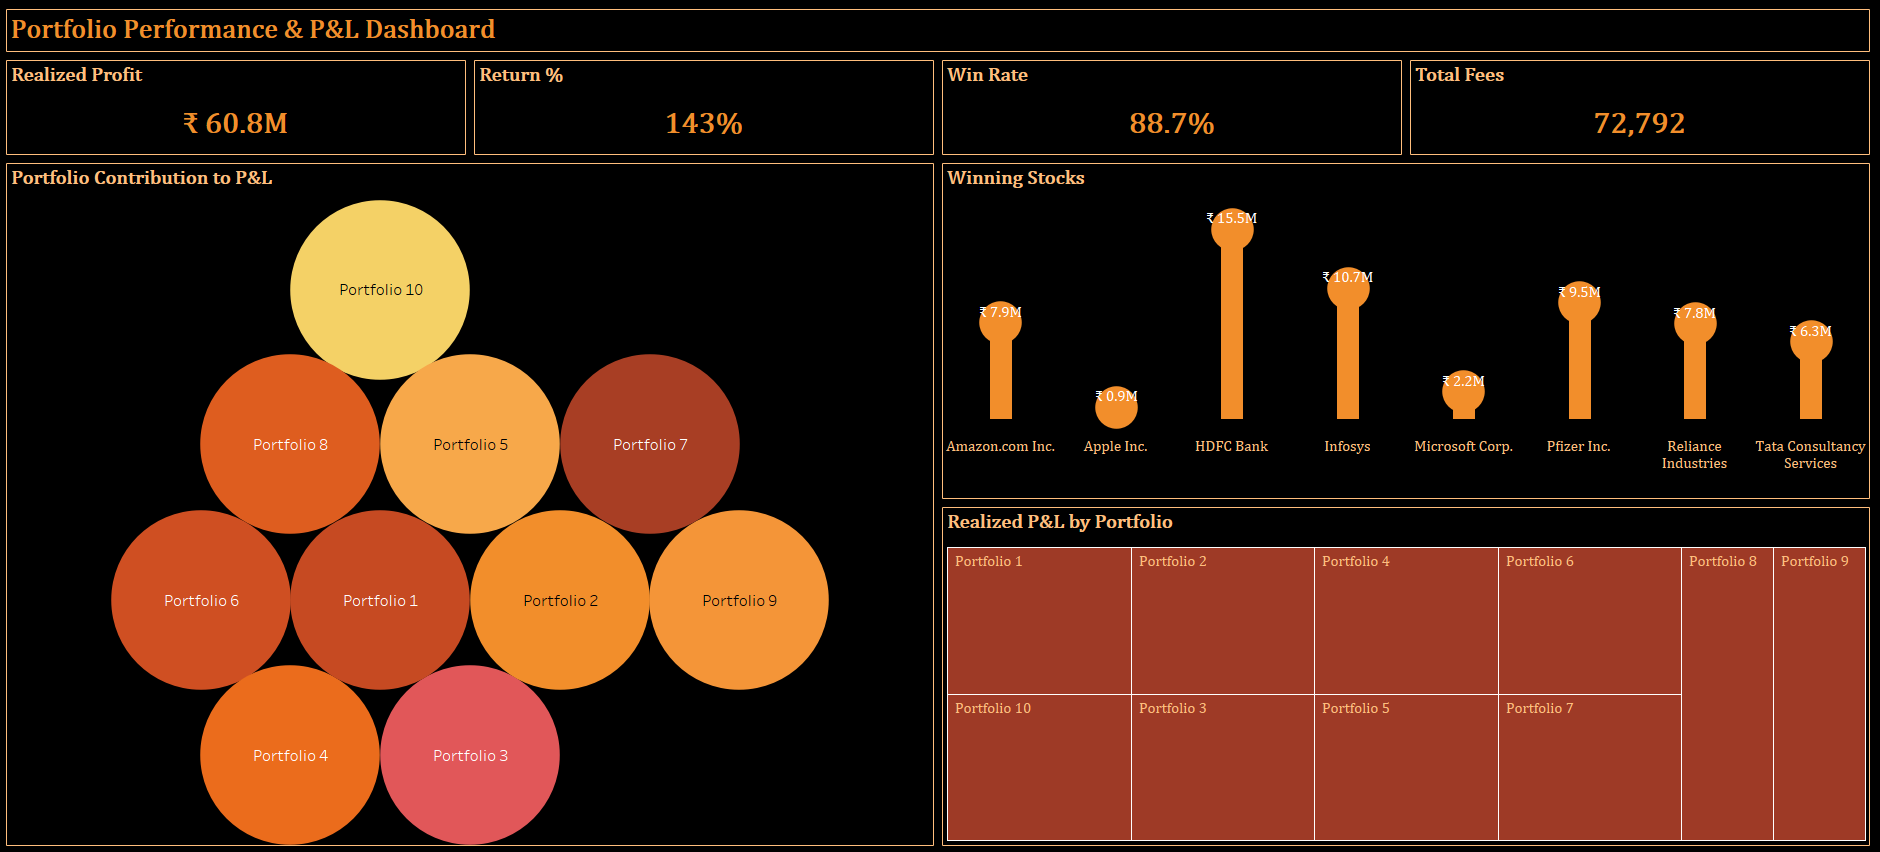

Layout of this report page (visuals, bound fields, positions):
{"tool":"tableau","page":{"name":"Dashboard 3","canvas":[1000,1000],"units":"permille","ordinal":2},"visuals":[{"type":"text","box":[4.2,9.3,991.5,59.2]},{"type":"worksheet","title":"Realized Profit","mark":"Automatic","box":[4.2,68.5,247.9,119.6]},{"type":"worksheet","title":"Return %","mark":"Automatic","box":[252.1,68.5,247.9,119.6]},{"type":"worksheet","title":"Win Rate","mark":"Automatic","box":[500,68.5,247.9,119.6]},{"type":"worksheet","title":"Total Fees","mark":"Automatic","box":[747.9,68.5,247.9,119.6]},{"type":"worksheet","title":"Portfolio Contribution to P&L","mark":"Circle","box":[4.2,188.2,495.8,802.6]},{"type":"worksheet","title":"Top 10 Winning Stocks","mark":"Automatic","rows":["realized_profit","realized_profit"],"cols":["company_name"],"box":[500,188.2,495.8,399.5]},{"type":"worksheet","title":"Realized P&L by Portfolio","mark":"Automatic","box":[500,587.7,495.8,403]}]}

Visuals, with their boxes on the dashboard's canvas, which has no fixed pixel size, in thousandths of its width and height (x1, y1, x2, y2). These are canvas units, not pixel positions in the 1880x852 screenshot, which may show the page scaled, cropped or inside an application window:
text: l=4, t=9, r=996, b=68
"Realized Profit" worksheet: l=4, t=68, r=252, b=188
"Return %" worksheet: l=252, t=68, r=500, b=188
"Win Rate" worksheet: l=500, t=68, r=748, b=188
"Total Fees" worksheet: l=748, t=68, r=996, b=188
"Portfolio Contribution to P&L" worksheet (Circle marks): l=4, t=188, r=500, b=991
"Top 10 Winning Stocks" worksheet: l=500, t=188, r=996, b=588
"Realized P&L by Portfolio" worksheet: l=500, t=588, r=996, b=991
